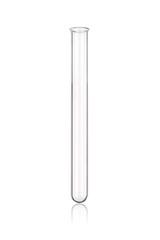Test tube: (65, 29, 89, 208)
